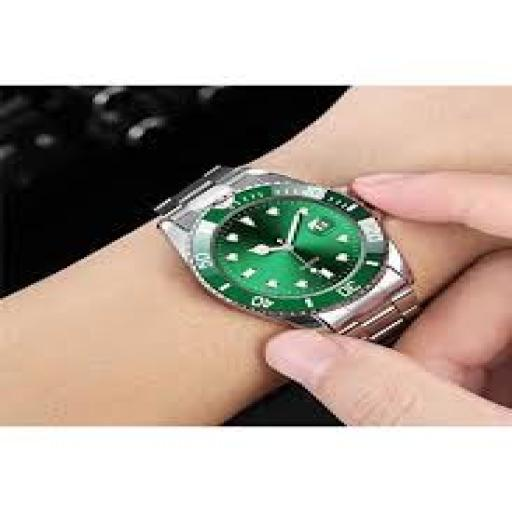KolSaati: (139, 157, 445, 366)
